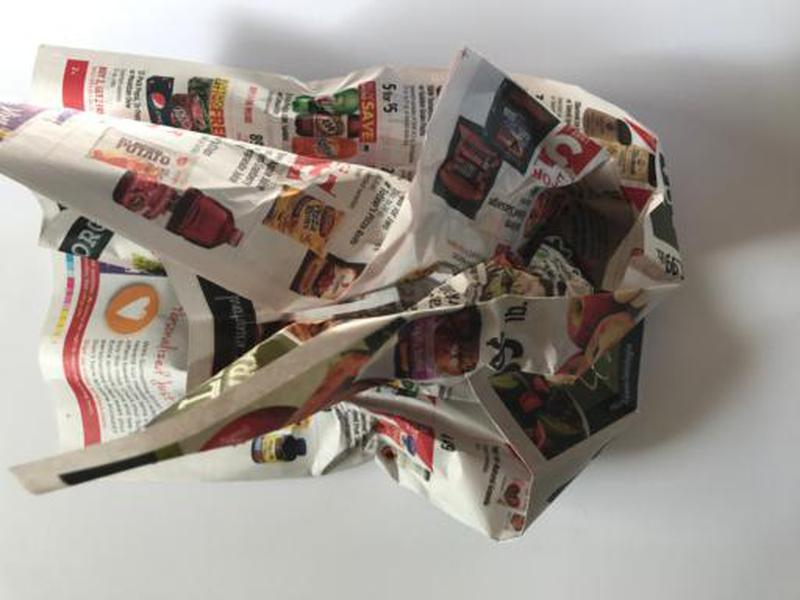paper: (1, 36, 689, 543)
